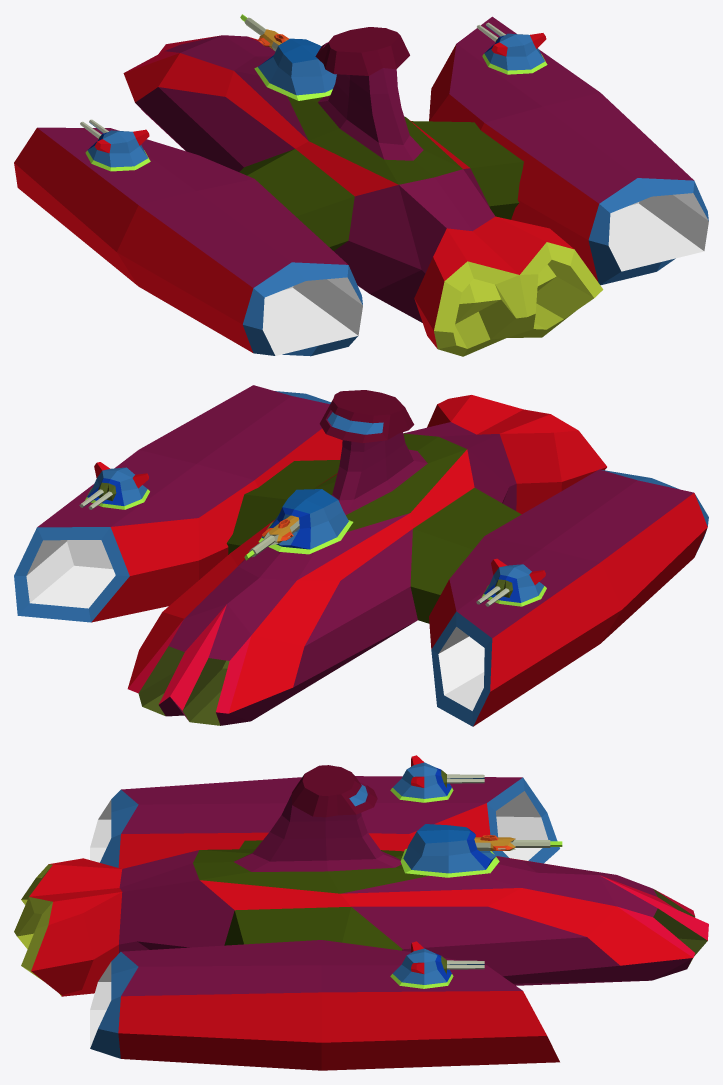
The model's file is bossuus3.fbx.
The picture shows the model from 3 angles, top to bottom: view 1: azimuth 30°, elevation 25°; view 2: azimuth 150°, elevation 25°; view 3: azimuth 270°, elevation 25°; orthographic projection. The views are drawn at different scales.
Parts seen in each view (by area): view 1: Runko, LeftHangar, rightHangar, BigTurret, leftTurret.001, leftTurret, BigGun; view 2: Runko, LeftHangar, rightHangar, BigTurret, leftTurret, leftTurret.001, BigGun; view 3: Runko, rightHangar, LeftHangar, BigTurret, leftTurret.001, leftTurret, BigGun.
Part boxes in pixels (bbox=[...]): Runko: bbox=[123, 27, 603, 356]; LeftHangar: bbox=[14, 127, 362, 356]; rightHangar: bbox=[429, 16, 708, 285]; BigTurret: bbox=[254, 38, 336, 100]; leftTurret.001: bbox=[80, 119, 150, 171]; leftTurret: bbox=[477, 22, 547, 74]; BigGun: bbox=[240, 14, 289, 51]; Runko: bbox=[127, 390, 606, 725]; LeftHangar: bbox=[429, 469, 708, 726]; rightHangar: bbox=[14, 385, 342, 622]; BigTurret: bbox=[258, 489, 353, 554]; leftTurret: bbox=[79, 462, 149, 509]; leftTurret.001: bbox=[476, 558, 546, 606]; BigGun: bbox=[244, 515, 299, 560]; Runko: bbox=[14, 765, 708, 996]; rightHangar: bbox=[90, 940, 559, 1070]; LeftHangar: bbox=[90, 776, 559, 868]; BigTurret: bbox=[400, 824, 499, 877]; leftTurret.001: bbox=[390, 755, 484, 802]; leftTurret: bbox=[390, 941, 484, 988]; BigGun: bbox=[474, 835, 562, 850].
Bounding box in the file's own units: 905 × 351 × 1121.
